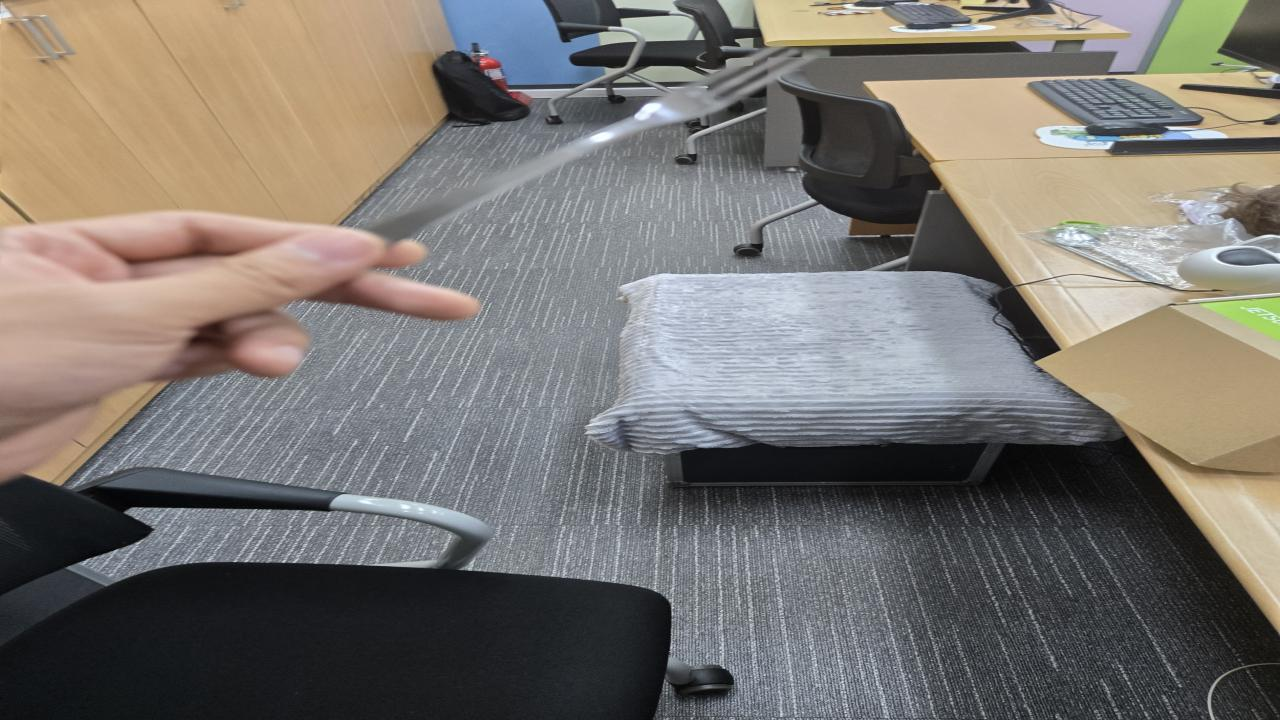fork: (358, 47, 816, 243)
